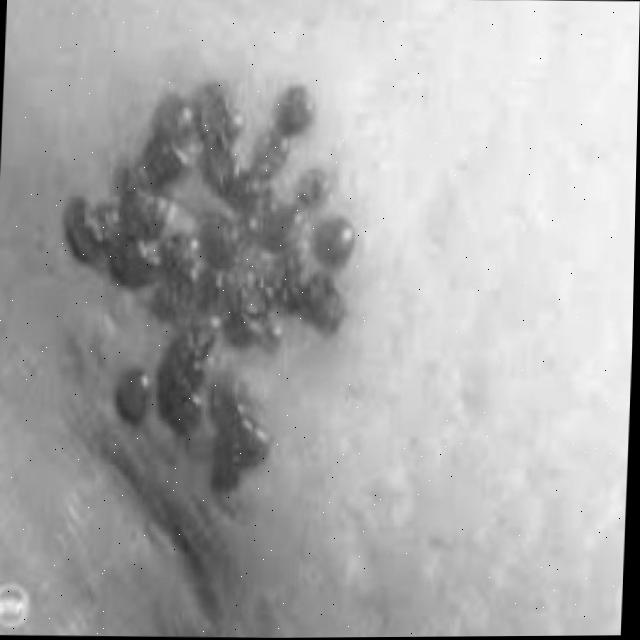Shingles: (41, 77, 373, 500)
